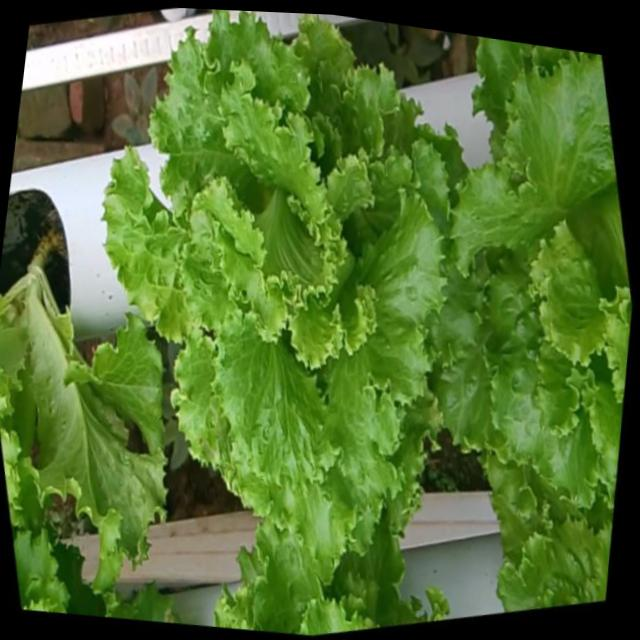Mature: (103, 10, 447, 557), (432, 49, 631, 505)
